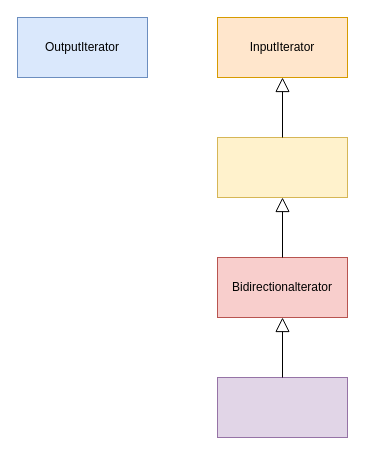
Some shapes in this 365 by 455 pixel diagram are drawn without their labels. Here are the shapes that lost their labels. From the top down, the box of each, then its label:
(216, 136, 348, 198): Forwardterator
(216, 376, 348, 438): RandomAccessIterator
